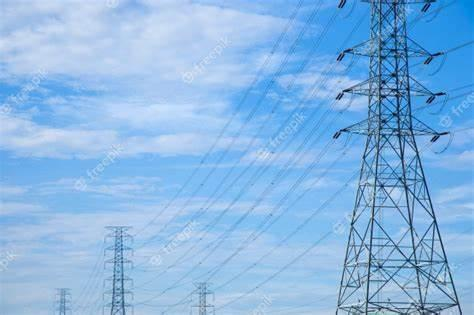power_tower: (328, 0, 468, 315), (97, 221, 144, 315), (187, 276, 218, 315)
